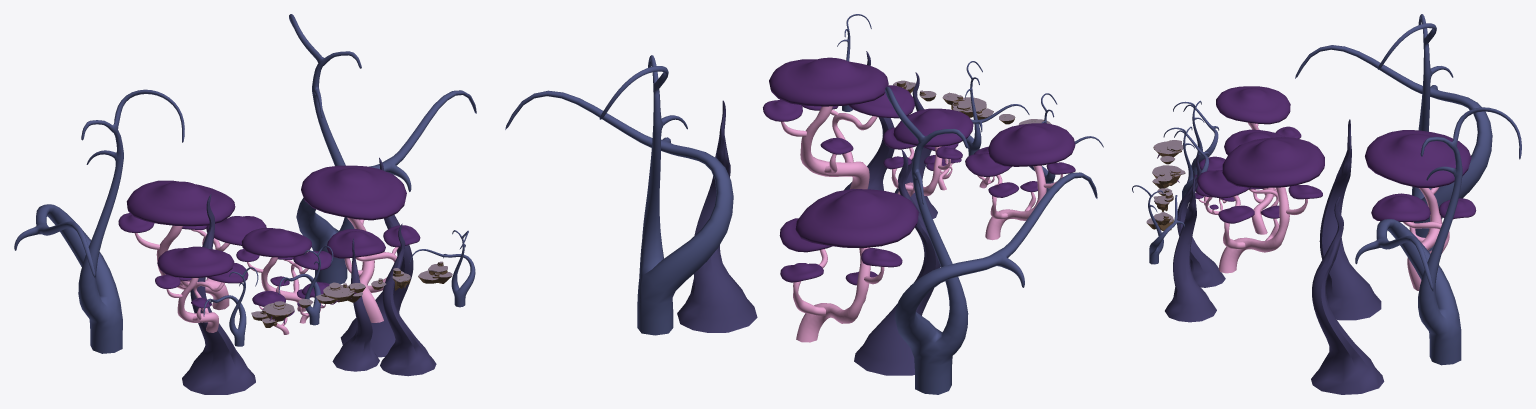
The model's file is level 3.fbx.
The picture shows the model from 3 angles, left to right: view 1: azimuth 30°, elevation 25°; view 2: azimuth 150°, elevation 25°; view 3: azimuth 270°, elevation 25°; orthographic projection. The views are drawn at different scales.
Visible parts, largest first — view 1: pohon aneh.003, batang alien.002, pohon aneh.005, batang alien.003, pohon aneh, batang alien v2.002, pohon aneh.002, batang alien v2.001, batang alien v2, batang alien v2.003, batang alien.004, batang alien (+5 smaller); view 2: batang alien.003, pohon aneh.005, batang alien.002, pohon aneh.003, pohon aneh, batang alien v2.003, batang alien v2.002, pohon aneh.002, batang alien v2.001, batang alien.001, platform lvl 3.020, batang alien v2; view 3: pohon aneh.003, pohon aneh.005, batang alien.003, batang alien.002, batang alien v2.003, batang alien v2.002, batang alien v2.001, pohon aneh, batang alien v2, pohon aneh.002, batang alien.004, batang alien (+3 smaller).
Boxes of the visible parts, x1,y1,x2,y2 form: pohon aneh.003: [301, 165, 420, 322]; batang alien.002: [14, 89, 184, 353]; pohon aneh.005: [118, 180, 266, 309]; batang alien.003: [289, 14, 476, 284]; pohon aneh: [155, 246, 248, 332]; batang alien v2.002: [182, 194, 255, 394]; pohon aneh.002: [236, 228, 332, 311]; batang alien v2.001: [380, 223, 436, 376]; batang alien v2: [332, 238, 379, 371]; batang alien v2.003: [340, 157, 413, 357]; batang alien.004: [409, 230, 475, 307]; batang alien: [203, 267, 258, 346]; batang alien.003: [505, 55, 733, 335]; pohon aneh.005: [779, 189, 918, 342]; batang alien.002: [885, 86, 1097, 394]; pohon aneh.003: [763, 57, 914, 189]; pohon aneh: [965, 123, 1075, 240]; batang alien v2.003: [677, 100, 757, 332]; batang alien v2.002: [854, 149, 940, 375]; pohon aneh.002: [883, 108, 973, 196]; batang alien v2.001: [844, 51, 894, 190]; batang alien.001: [965, 61, 1029, 155]; platform lvl 3.020: [942, 92, 993, 119]; batang alien v2: [894, 72, 937, 218]; pohon aneh.003: [1197, 137, 1324, 273]; pohon aneh.005: [1365, 130, 1476, 290]; batang alien.003: [1355, 107, 1521, 365]; batang alien.002: [1295, 14, 1492, 251]; batang alien v2.003: [1311, 197, 1384, 394]; batang alien v2.002: [1319, 119, 1381, 320]; batang alien v2.001: [1165, 171, 1216, 322]; pohon aneh: [1216, 86, 1301, 196]; batang alien v2: [1177, 154, 1225, 287]; pohon aneh.002: [1224, 129, 1289, 234]; batang alien.004: [1132, 185, 1184, 264]; batang alien: [1173, 100, 1219, 174].
Bounding box in the file's own units: 56217 × 31937 × 42246.
